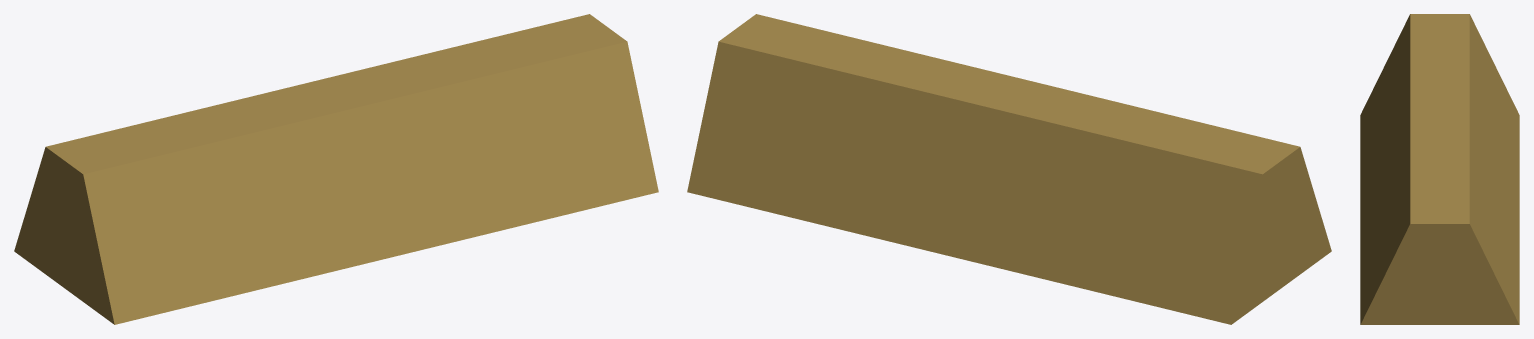
File: RoofRidge.fbx
3 renders of one model, left to right at view 1: azimuth 30°, elevation 25°; view 2: azimuth 150°, elevation 25°; view 3: azimuth 270°, elevation 25°, orthographic. The views are drawn at different scales.
Parts seen in each view (by area): view 1: Kit_RoofRidge; view 2: Kit_RoofRidge; view 3: Kit_RoofRidge.
Boxes of the visible parts, <box> form: Kit_RoofRidge: <box>14,14,658,324</box>; Kit_RoofRidge: <box>687,14,1331,324</box>; Kit_RoofRidge: <box>1360,14,1519,324</box>.
Size of the model in its own units: 1 by 0.2241 by 0.32.
